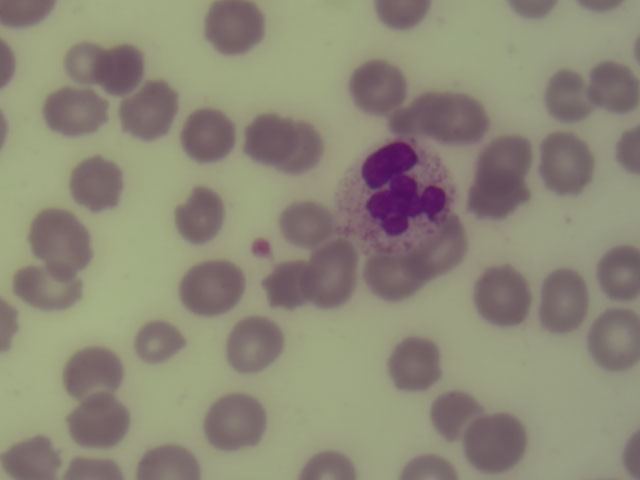Platelets: (245, 236, 279, 262)
RBC: (13, 260, 84, 312), (592, 303, 640, 378), (416, 90, 485, 141), (41, 84, 108, 134), (67, 396, 130, 449), (362, 256, 427, 305), (1, 432, 63, 480), (64, 349, 124, 398), (474, 268, 527, 322), (539, 135, 592, 189), (476, 139, 529, 193), (303, 251, 356, 305), (207, 392, 260, 446), (226, 318, 279, 372), (132, 315, 185, 369), (31, 210, 84, 264), (184, 259, 237, 313), (174, 189, 227, 243), (70, 157, 123, 211), (351, 61, 404, 115), (183, 108, 236, 162), (120, 83, 173, 137), (88, 38, 141, 92), (414, 220, 467, 274), (538, 273, 591, 327), (470, 415, 523, 469), (430, 387, 483, 441), (388, 335, 441, 389), (209, 1, 262, 54), (593, 58, 640, 115), (134, 442, 202, 480), (543, 69, 590, 123), (597, 245, 640, 302), (280, 202, 334, 246), (295, 443, 359, 480), (262, 261, 315, 304), (244, 112, 290, 161), (284, 121, 322, 174), (373, 1, 432, 32), (1, 1, 56, 31), (398, 454, 459, 480)
WBC: (338, 135, 454, 244)
